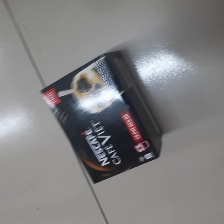CF Viet: (37, 50, 164, 186)
